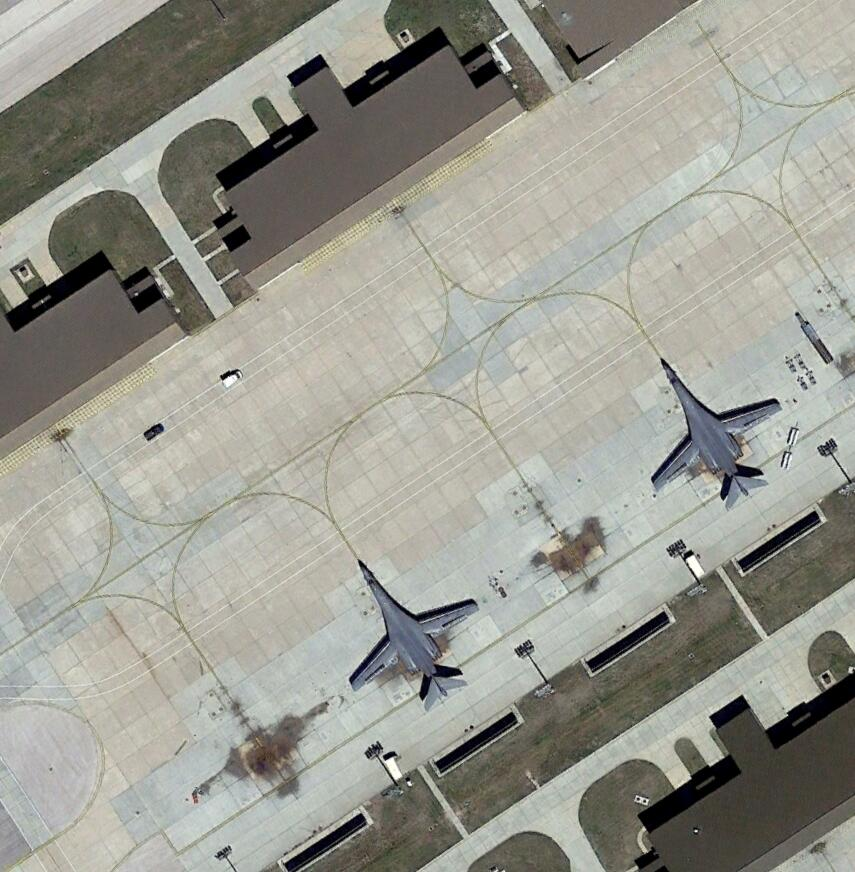A10: (338, 558, 481, 712), (645, 356, 787, 508)
